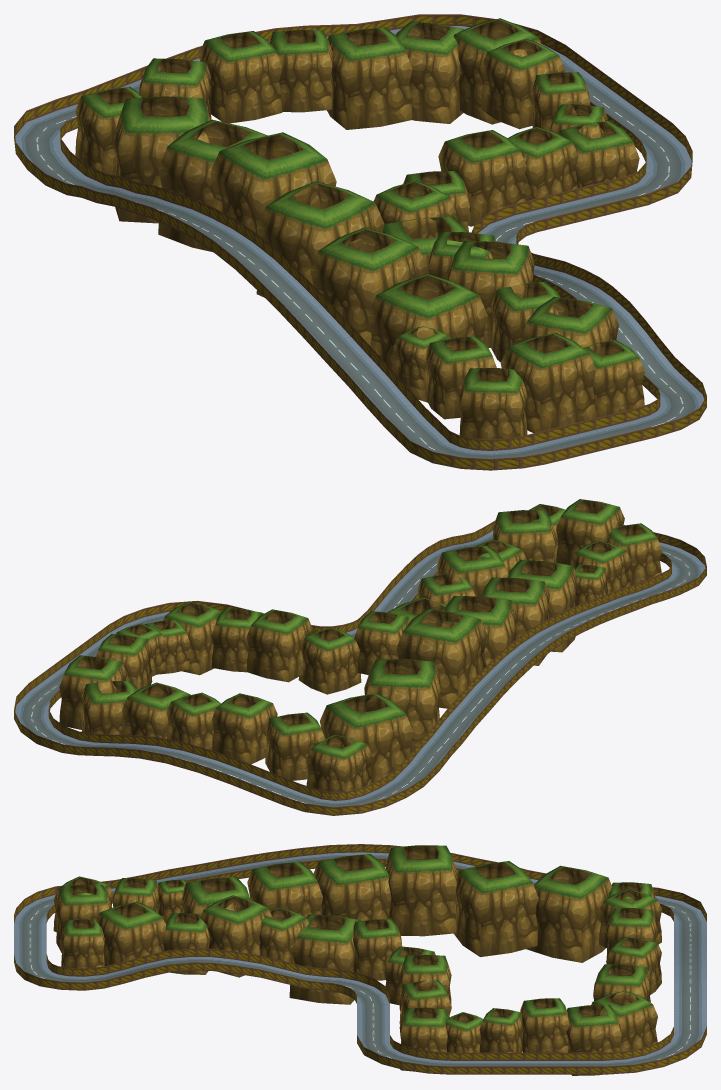
File: track_test01.FBX
The picture shows the model from 3 angles, top to bottom: view 1: azimuth 30°, elevation 25°; view 2: azimuth 150°, elevation 25°; view 3: azimuth 270°, elevation 25°; orthographic projection. The views are drawn at different scales.
Parts seen in each view (by area): view 1: cliff, fence, road; view 2: cliff, fence, road; view 3: cliff, fence, road.
Boxes of the visible parts, x1,y1,x2,y2 form: cliff: (75,18,644,439); fence: (14,14,706,470); road: (15,26,704,458); cliff: (59,499,661,792); fence: (14,520,706,815); road: (15,530,705,807); cliff: (53,845,661,1075); fence: (14,844,706,1074); road: (14,852,706,1066).
Bounding box in the file's own units: 15806 × 4248 × 25395.
3 materials, 3 textured.
